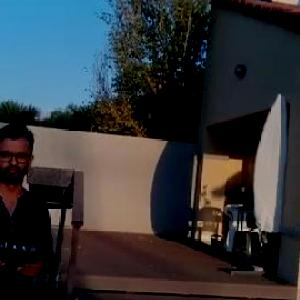follow: (0, 112, 59, 299)
